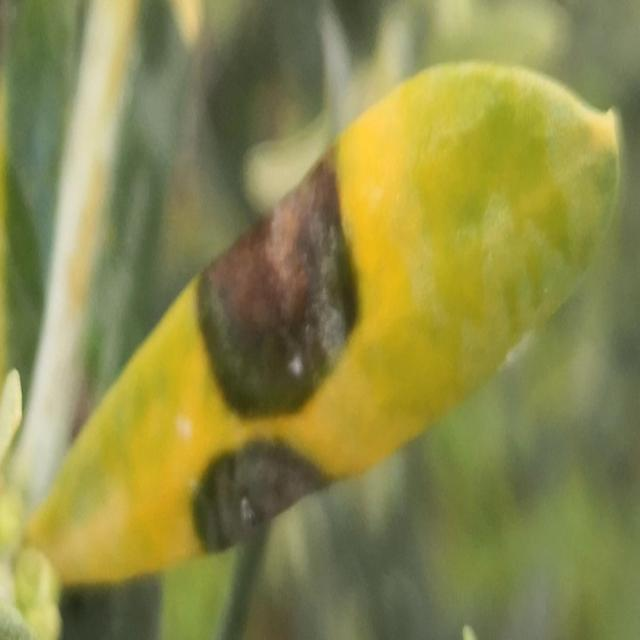Peacock Eye: (23, 64, 622, 584)
